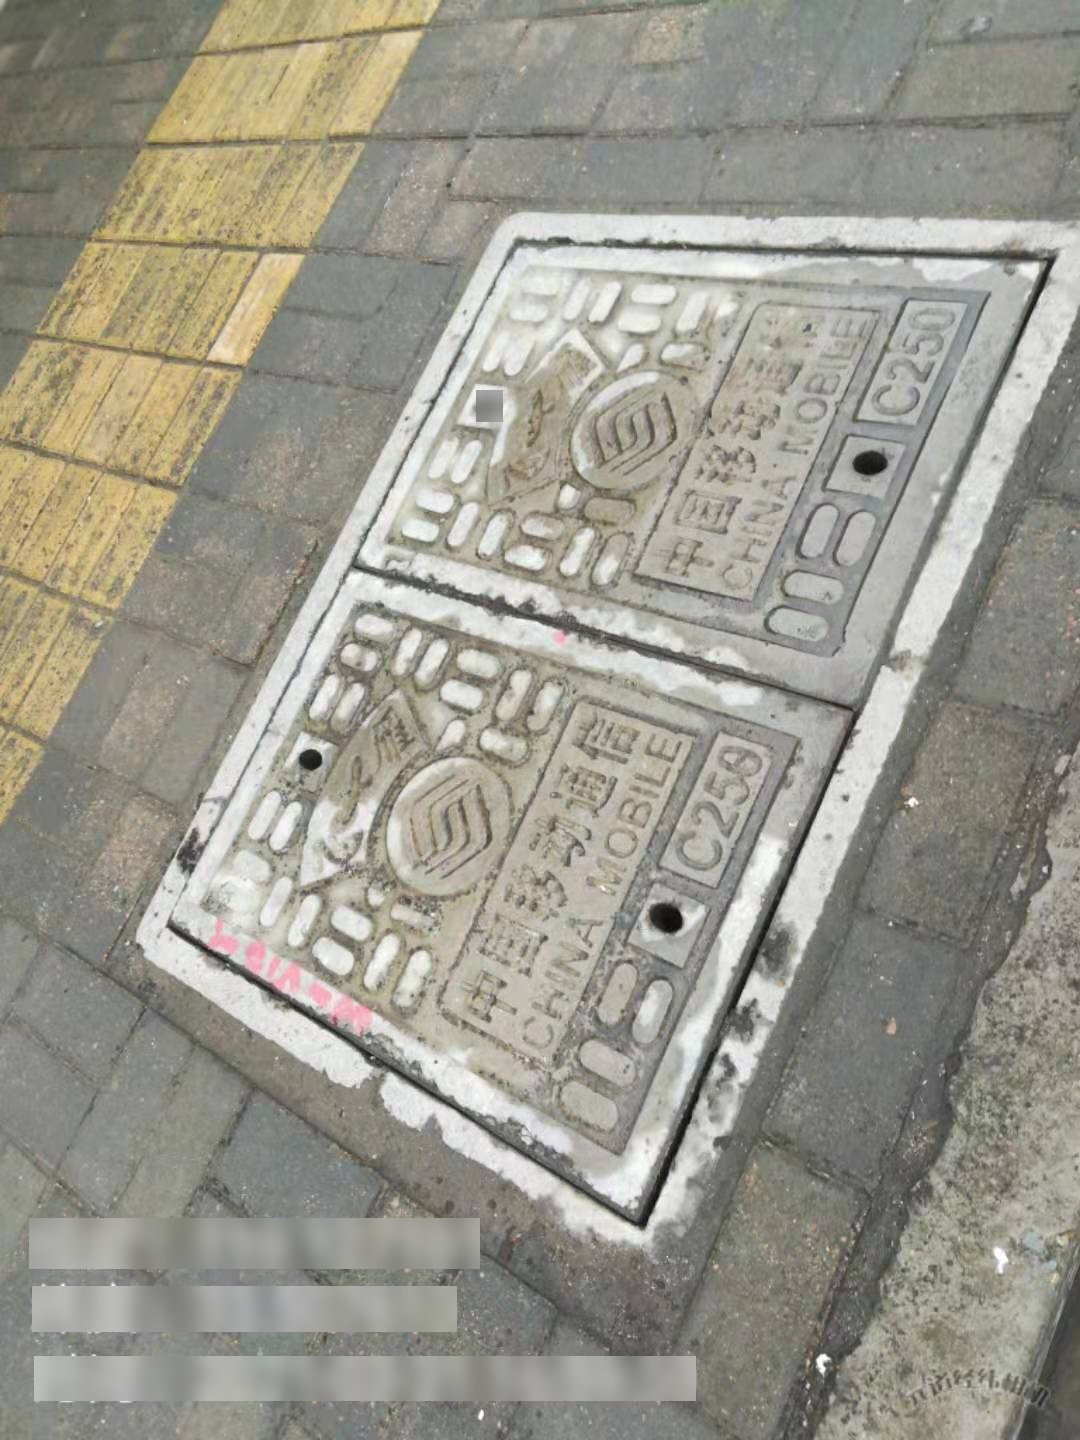good: (140, 209, 1080, 1255)
